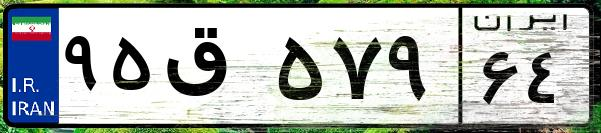4: (525, 38, 570, 115)
5: (270, 28, 330, 110), (110, 28, 158, 98)
6: (475, 38, 525, 113)
7: (330, 28, 385, 110)
9: (385, 28, 445, 110), (57, 26, 110, 100)
ق: (158, 20, 270, 120)
